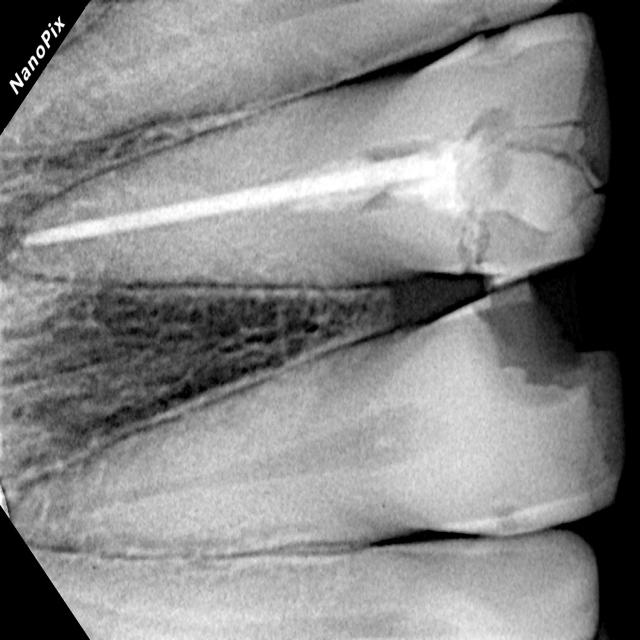karies: (471, 242, 605, 414)
